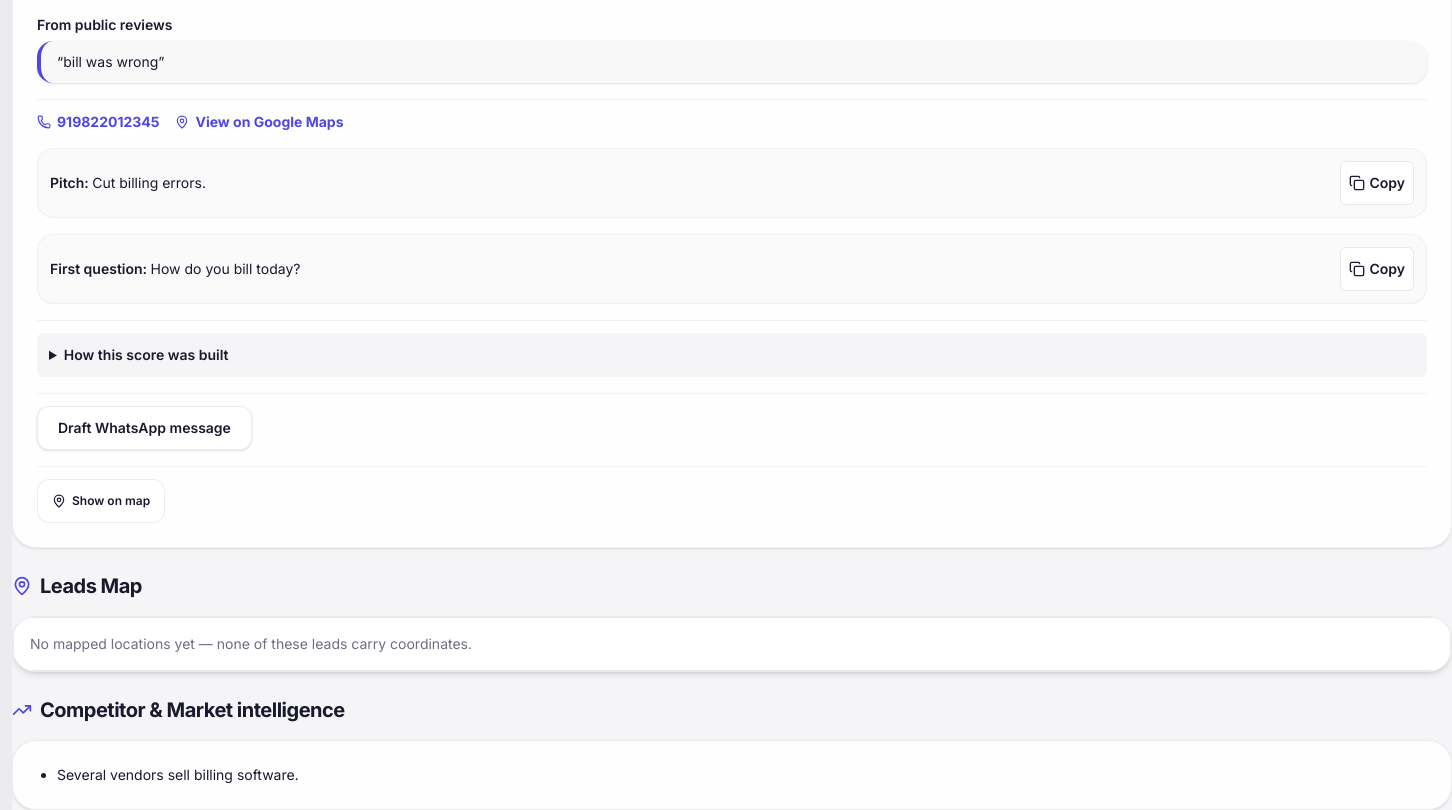
LeadsResultsView › hides query details and syncs the map without an input
(page scrolled)
Click the button "Show on map" at (101, 501), box [37,479,165,523]
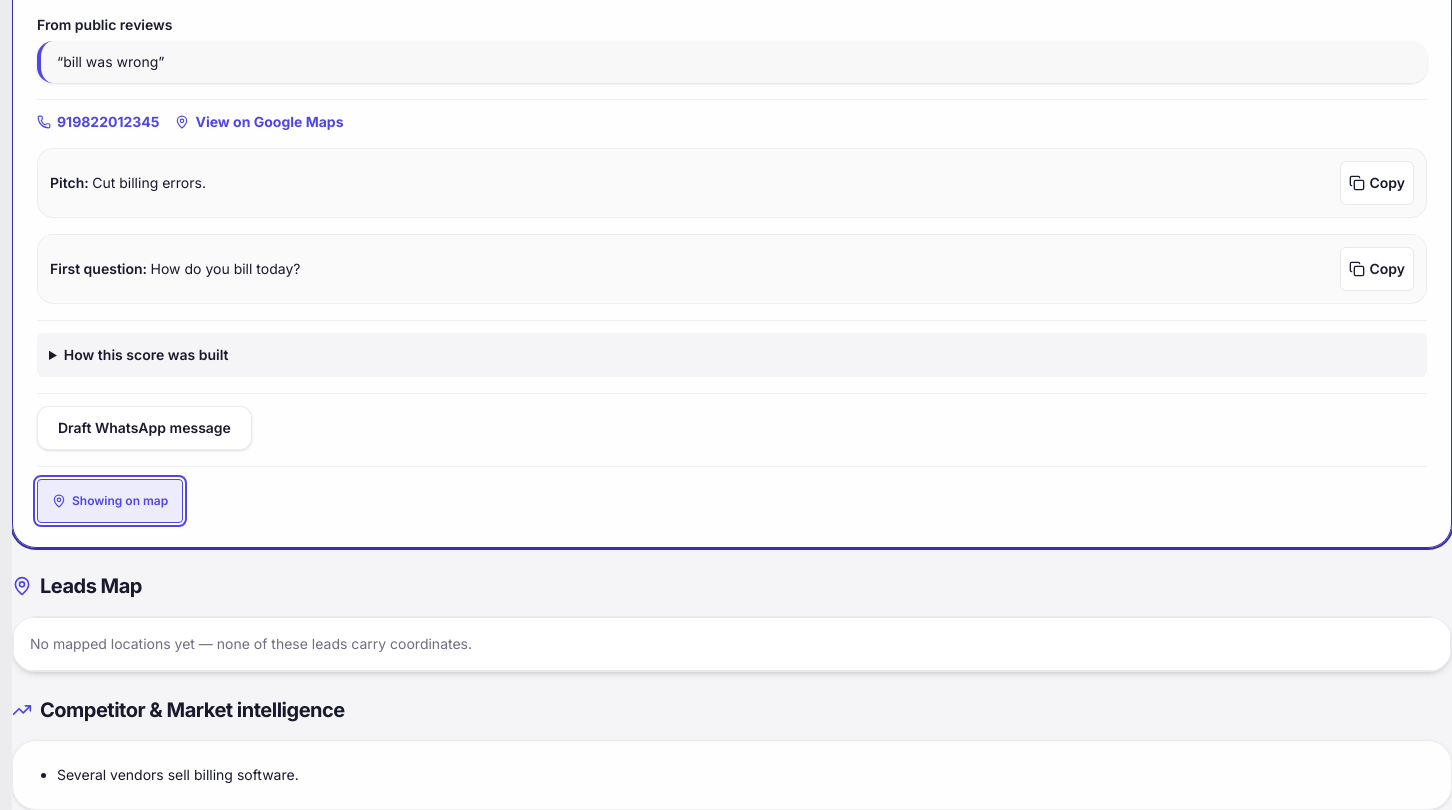
Expected: the button "Showing on map" is shown, [37,479,183,523]
